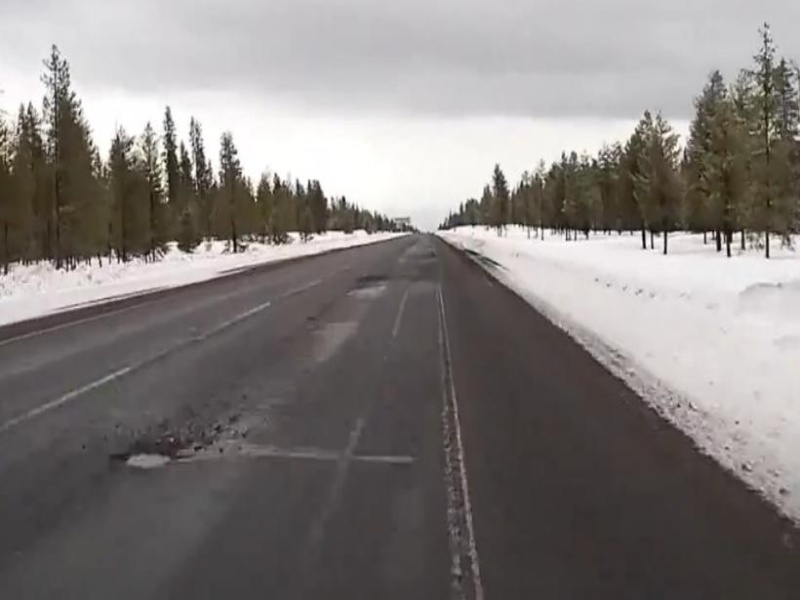pothole: (110, 446, 179, 470)
